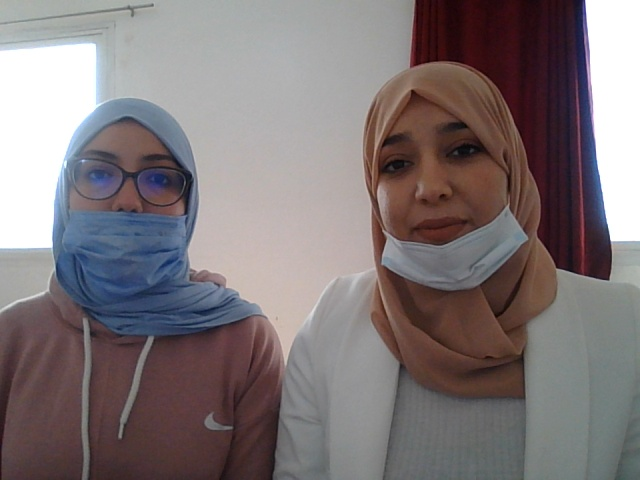mask_weared_incorrect: (326, 76, 527, 300), (50, 98, 199, 314)
